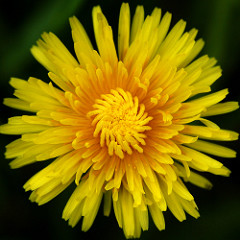dandelion: (4, 5, 239, 239)
